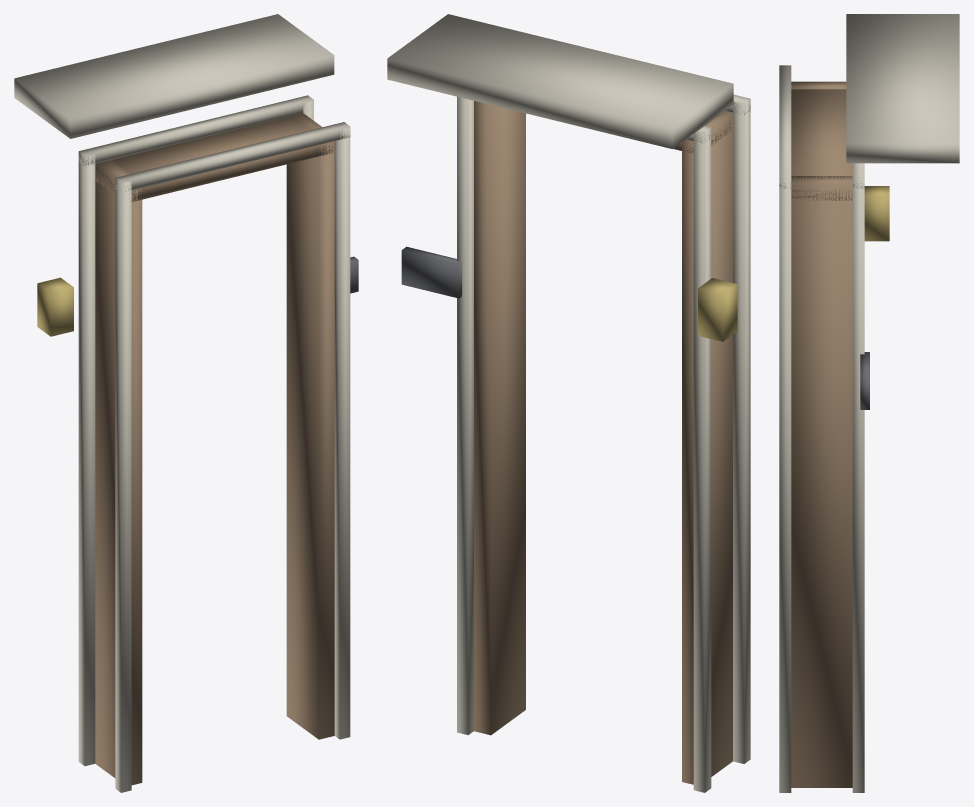
Rendered from doorway_motel_w76_h240_d24.glb.
3 renders of one model, left to right at view 1: azimuth 30°, elevation 25°; view 2: azimuth 150°, elevation 25°; view 3: azimuth 270°, elevation 25°, orthographic. The views are drawn at different scales.
Visible parts, largest first — view 1: world; view 2: world; view 3: world.
Boxes of the visible parts, x1,y1,x2,y2 form: world: [14, 14, 358, 792]; world: [387, 14, 750, 792]; world: [779, 14, 959, 792].
Bounding box in the file's own units: 1.32 × 2.69 × 0.6682.
